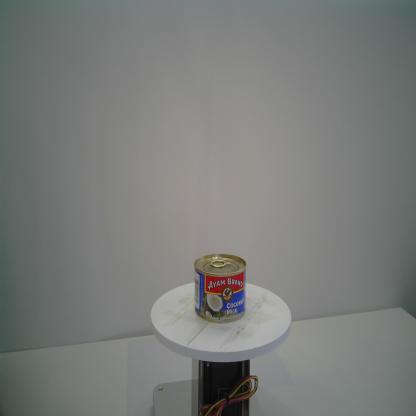Canned Food: (193, 253, 247, 324)
